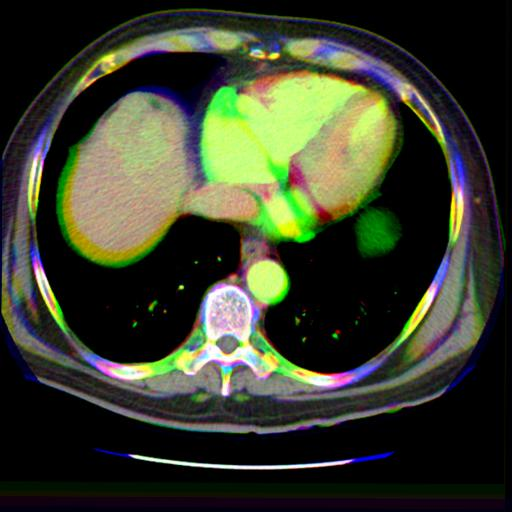Tumor: (106, 92, 186, 174)
